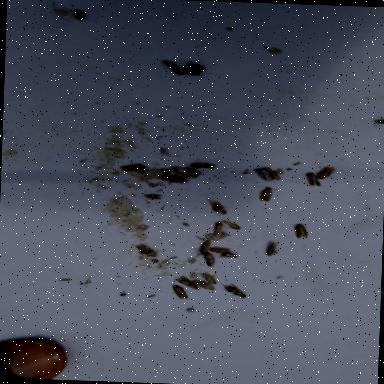pbw: (220, 284, 248, 298), (162, 60, 186, 76), (205, 198, 227, 214), (258, 185, 277, 203), (318, 164, 338, 180), (176, 276, 198, 290), (255, 167, 274, 183), (136, 244, 158, 257), (200, 270, 219, 285), (172, 285, 190, 300), (160, 176, 186, 186), (212, 222, 228, 238), (264, 167, 282, 181), (218, 220, 242, 230), (305, 172, 322, 186), (198, 240, 212, 256), (295, 224, 309, 239), (208, 247, 236, 254), (268, 242, 279, 257), (204, 254, 216, 266)
